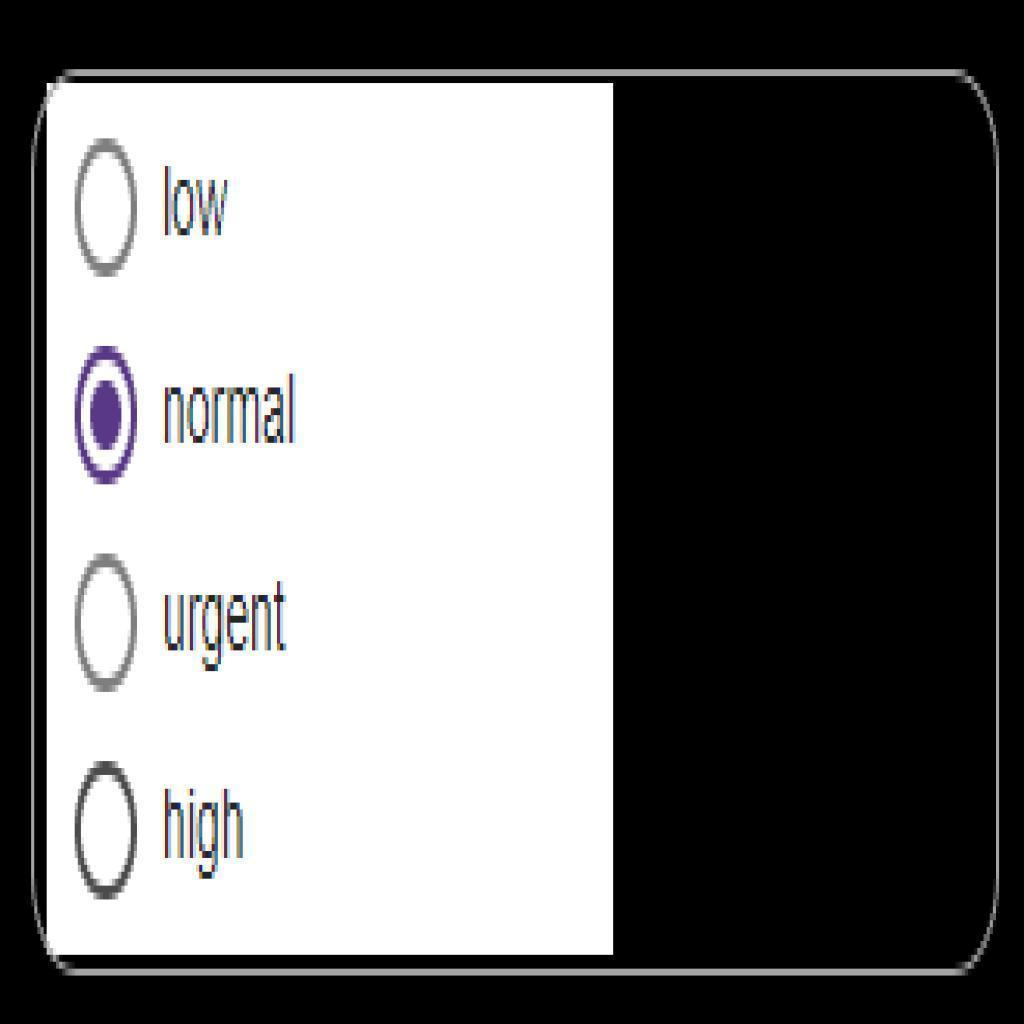radio: (70, 133, 142, 279), (72, 548, 141, 695), (72, 758, 143, 900), (75, 341, 142, 486)
